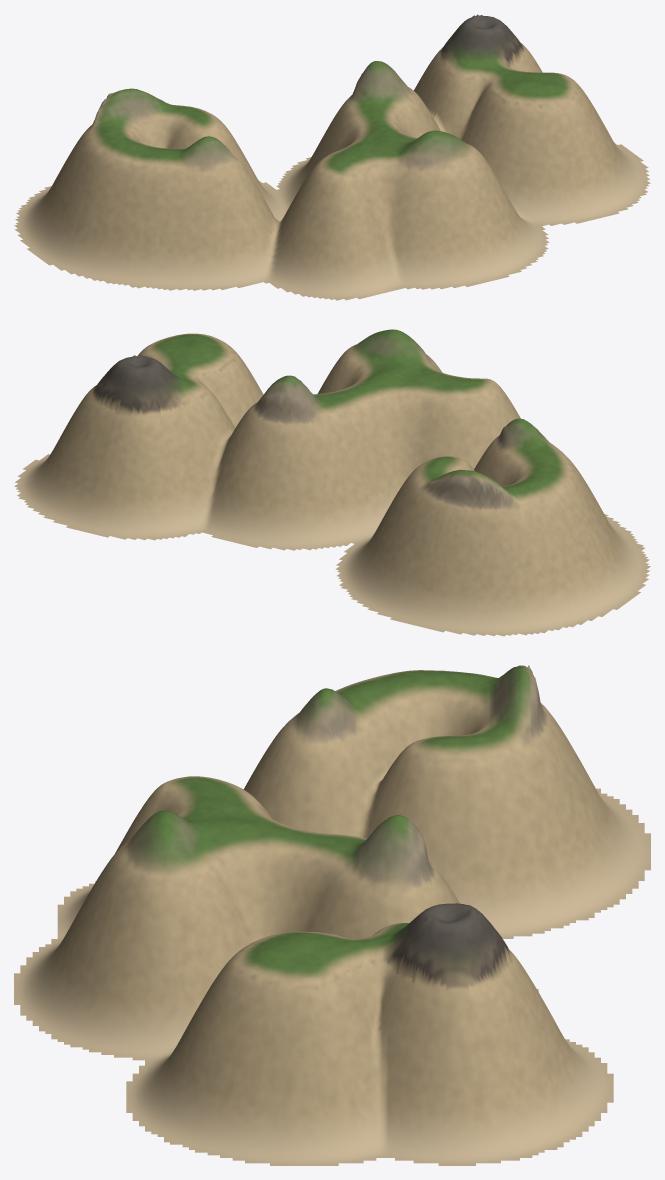
File: coast.glb
3 views of the same model, one above another, from view 1: azimuth 30°, elevation 25°; view 2: azimuth 150°, elevation 25°; view 3: azimuth 270°, elevation 25° (orthographic). The views are drawn at different scales.
Visible parts, largest first — view 1: Coast; view 2: Coast; view 3: Coast.
Part boxes in pixels (x1,y1,x2,y2): Coast: (14,14,650,300); Coast: (14,329,650,636); Coast: (14,665,650,1165).
Bounding box in the file's own units: 77 × 16.34 × 51.
1 material, 1 textured.
